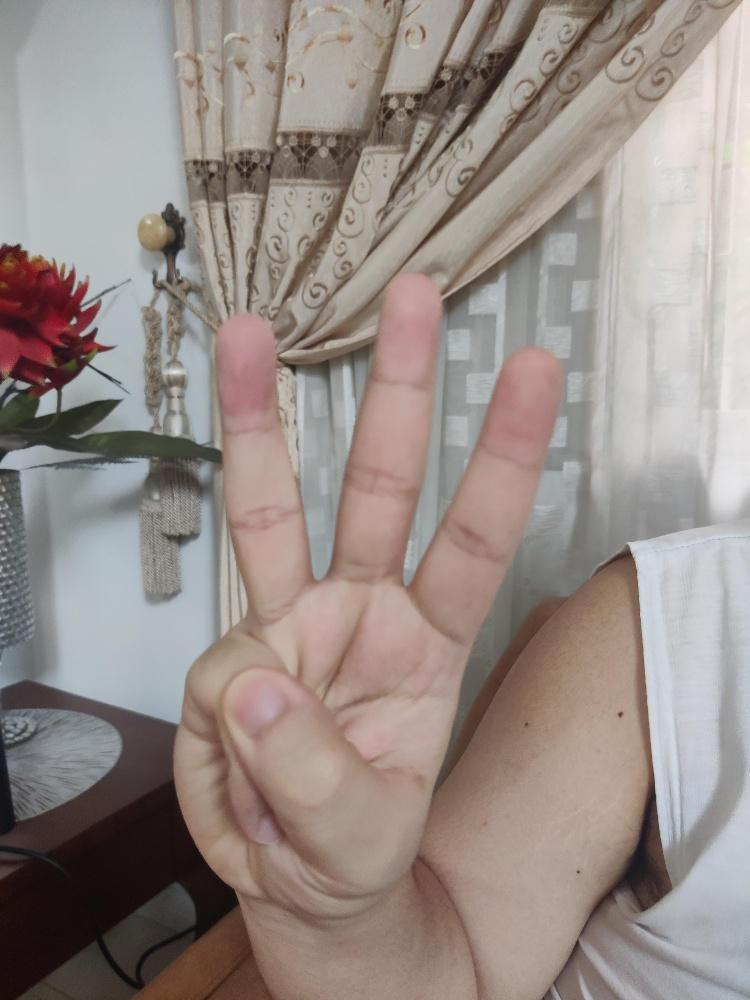w: (170, 269, 563, 915)
